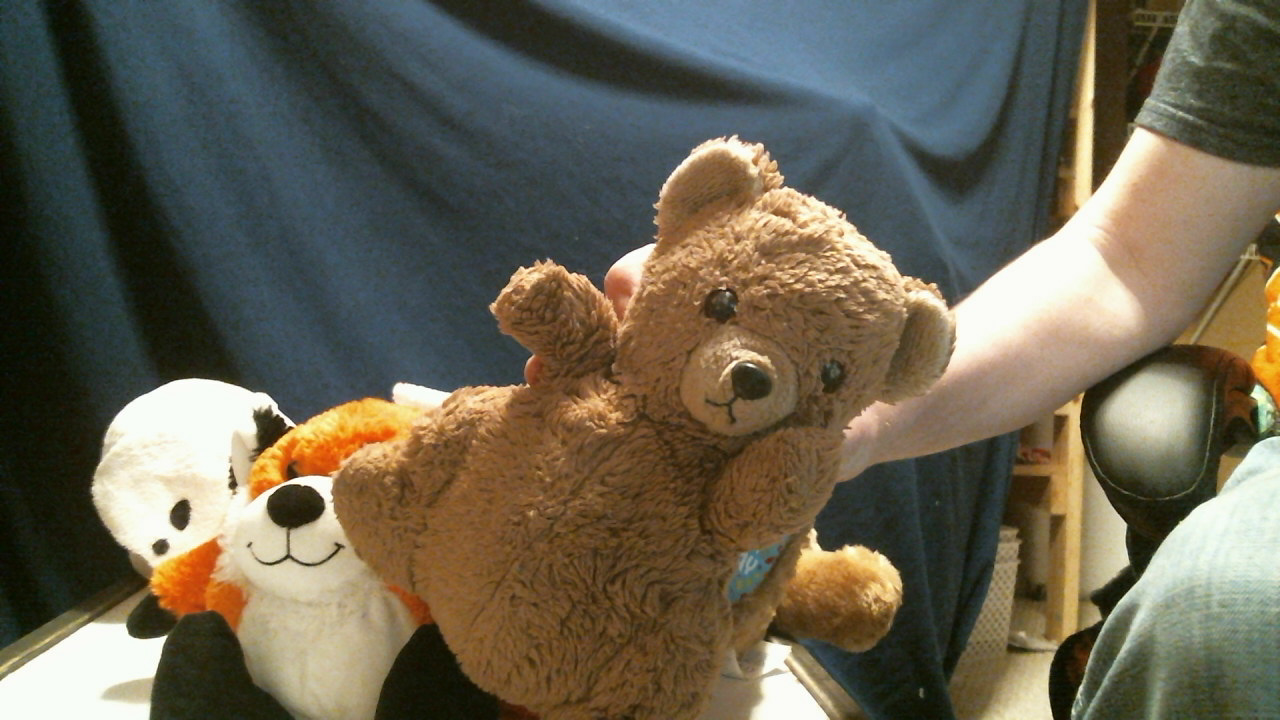Little_Mister_Bear: (666, 283, 852, 444)
